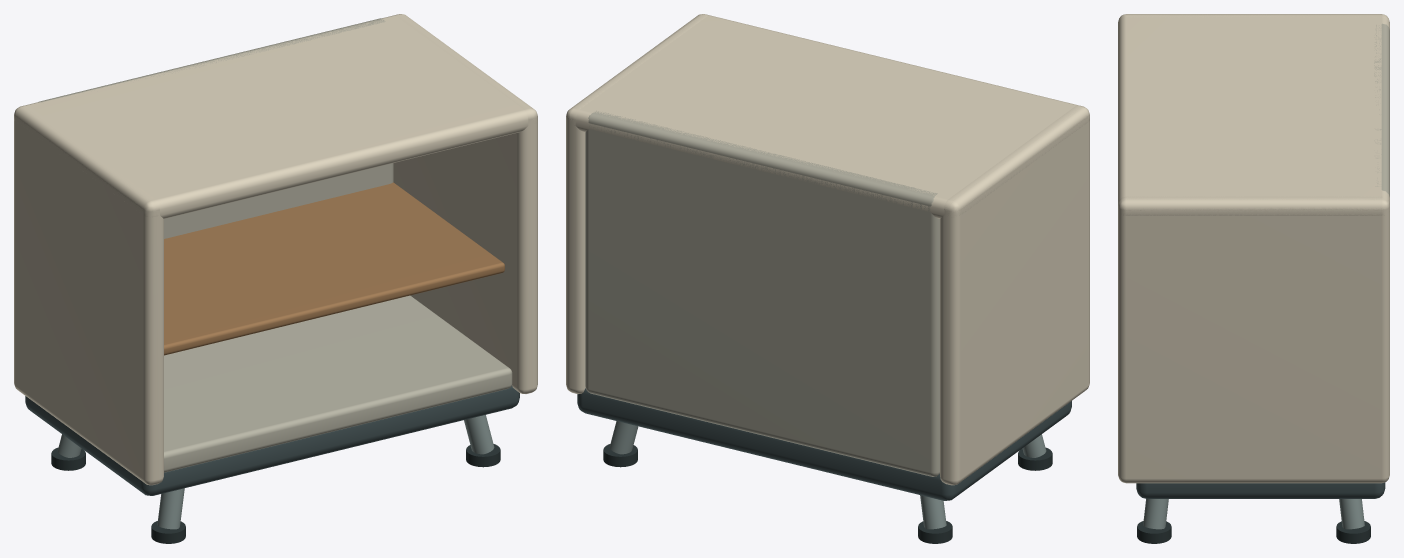
Rendered from cabinet-frame-100.glb.
The picture shows the model from 3 angles, left to right: view 1: azimuth 30°, elevation 25°; view 2: azimuth 150°, elevation 25°; view 3: azimuth 270°, elevation 25°; orthographic projection.
Parts seen in each view (by area): view 1: cabinet-frame-100 / 01 • warm porcelain paint, cabinet-frame-100 / 02 • inner shell, cabinet-frame-100 / 21 / honey ash timber, cabinet-frame-100 / 06 • dark anodized frame, cabinet-frame-100 / 05 • brushed titanium, cabinet-frame-100 / 04 • graphite gasket; view 2: cabinet-frame-100 / 02 • inner shell, cabinet-frame-100 / 01 • warm porcelain paint, cabinet-frame-100 / 06 • dark anodized frame, cabinet-frame-100 / 05 • brushed titanium, cabinet-frame-100 / 04 • graphite gasket; view 3: cabinet-frame-100 / 01 • warm porcelain paint, cabinet-frame-100 / 06 • dark anodized frame, cabinet-frame-100 / 02 • inner shell, cabinet-frame-100 / 05 • brushed titanium, cabinet-frame-100 / 04 • graphite gasket.
Part boxes in pixels (box(x1,y1,x2,y2)): cabinet-frame-100 / 01 • warm porcelain paint: box(14, 14, 537, 485); cabinet-frame-100 / 02 • inner shell: box(38, 18, 512, 472); cabinet-frame-100 / 21 / honey ash timber: box(164, 182, 504, 355); cabinet-frame-100 / 06 • dark anodized frame: box(25, 385, 519, 495); cabinet-frame-100 / 05 • brushed titanium: box(57, 415, 494, 529); cabinet-frame-100 / 04 • graphite gasket: box(51, 444, 500, 543); cabinet-frame-100 / 02 • inner shell: box(585, 110, 939, 476); cabinet-frame-100 / 01 • warm porcelain paint: box(566, 14, 1089, 485); cabinet-frame-100 / 06 • dark anodized frame: box(577, 388, 1071, 500); cabinet-frame-100 / 05 • brushed titanium: box(609, 421, 1046, 529); cabinet-frame-100 / 04 • graphite gasket: box(603, 444, 1052, 543); cabinet-frame-100 / 01 • warm porcelain paint: box(1118, 14, 1389, 483); cabinet-frame-100 / 06 • dark anodized frame: box(1136, 482, 1385, 498); cabinet-frame-100 / 02 • inner shell: box(1374, 23, 1389, 196); cabinet-frame-100 / 05 • brushed titanium: box(1143, 499, 1364, 529); cabinet-frame-100 / 04 • graphite gasket: box(1137, 521, 1370, 543).
Size of the model in its own units: 1 by 0.86 by 0.6.
